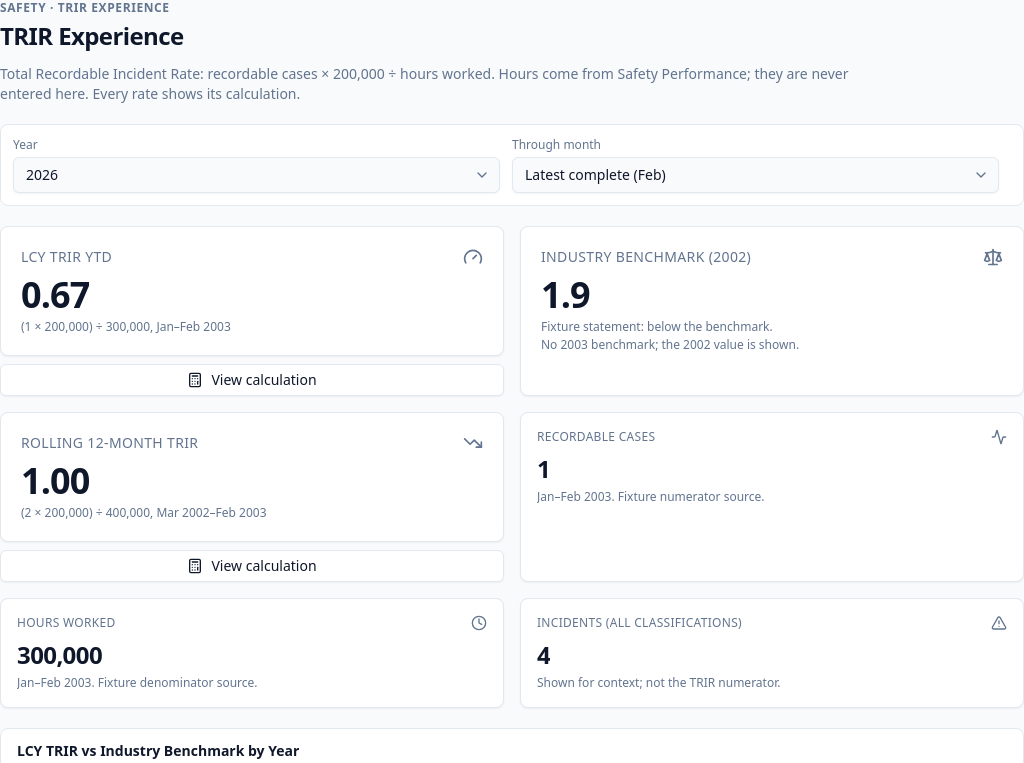
Test: TRIR Experience › explains a TRIR's numerator, denominator, source, cutoff and exact value
Click the button "View calculation" below "(1 × 200,000) ÷ 300,000, Jan–Feb 2003" at x=252, y=380, box [0, 364, 504, 396]
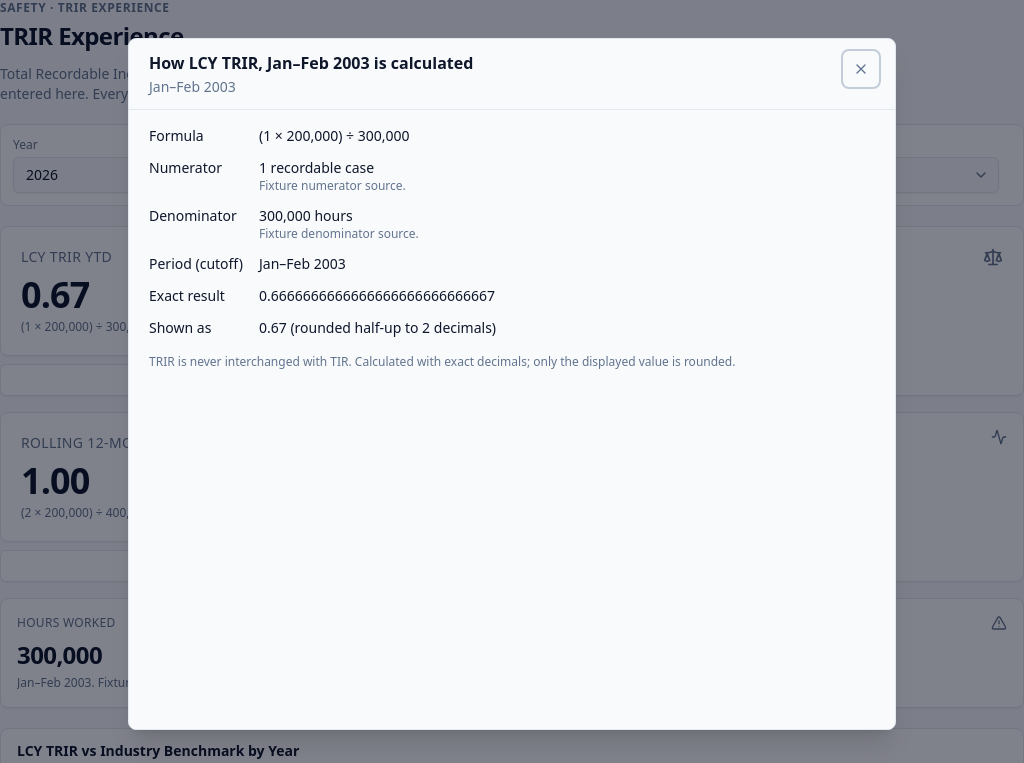
Expected: the heading "How LCY TRIR, Jan–Feb 2003 is calculated" is shown, [149, 52, 473, 74]
Expected: the dialog shows "(1 × 200,000) ÷ 300,000", [259, 126, 410, 145]
Expected: the dialog shows "1 recordable case"
